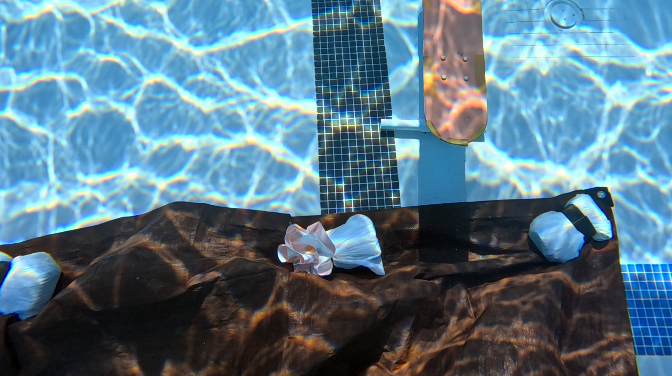pathmarker: (422, 0, 487, 143)
sandbag: (0, 188, 638, 374)
